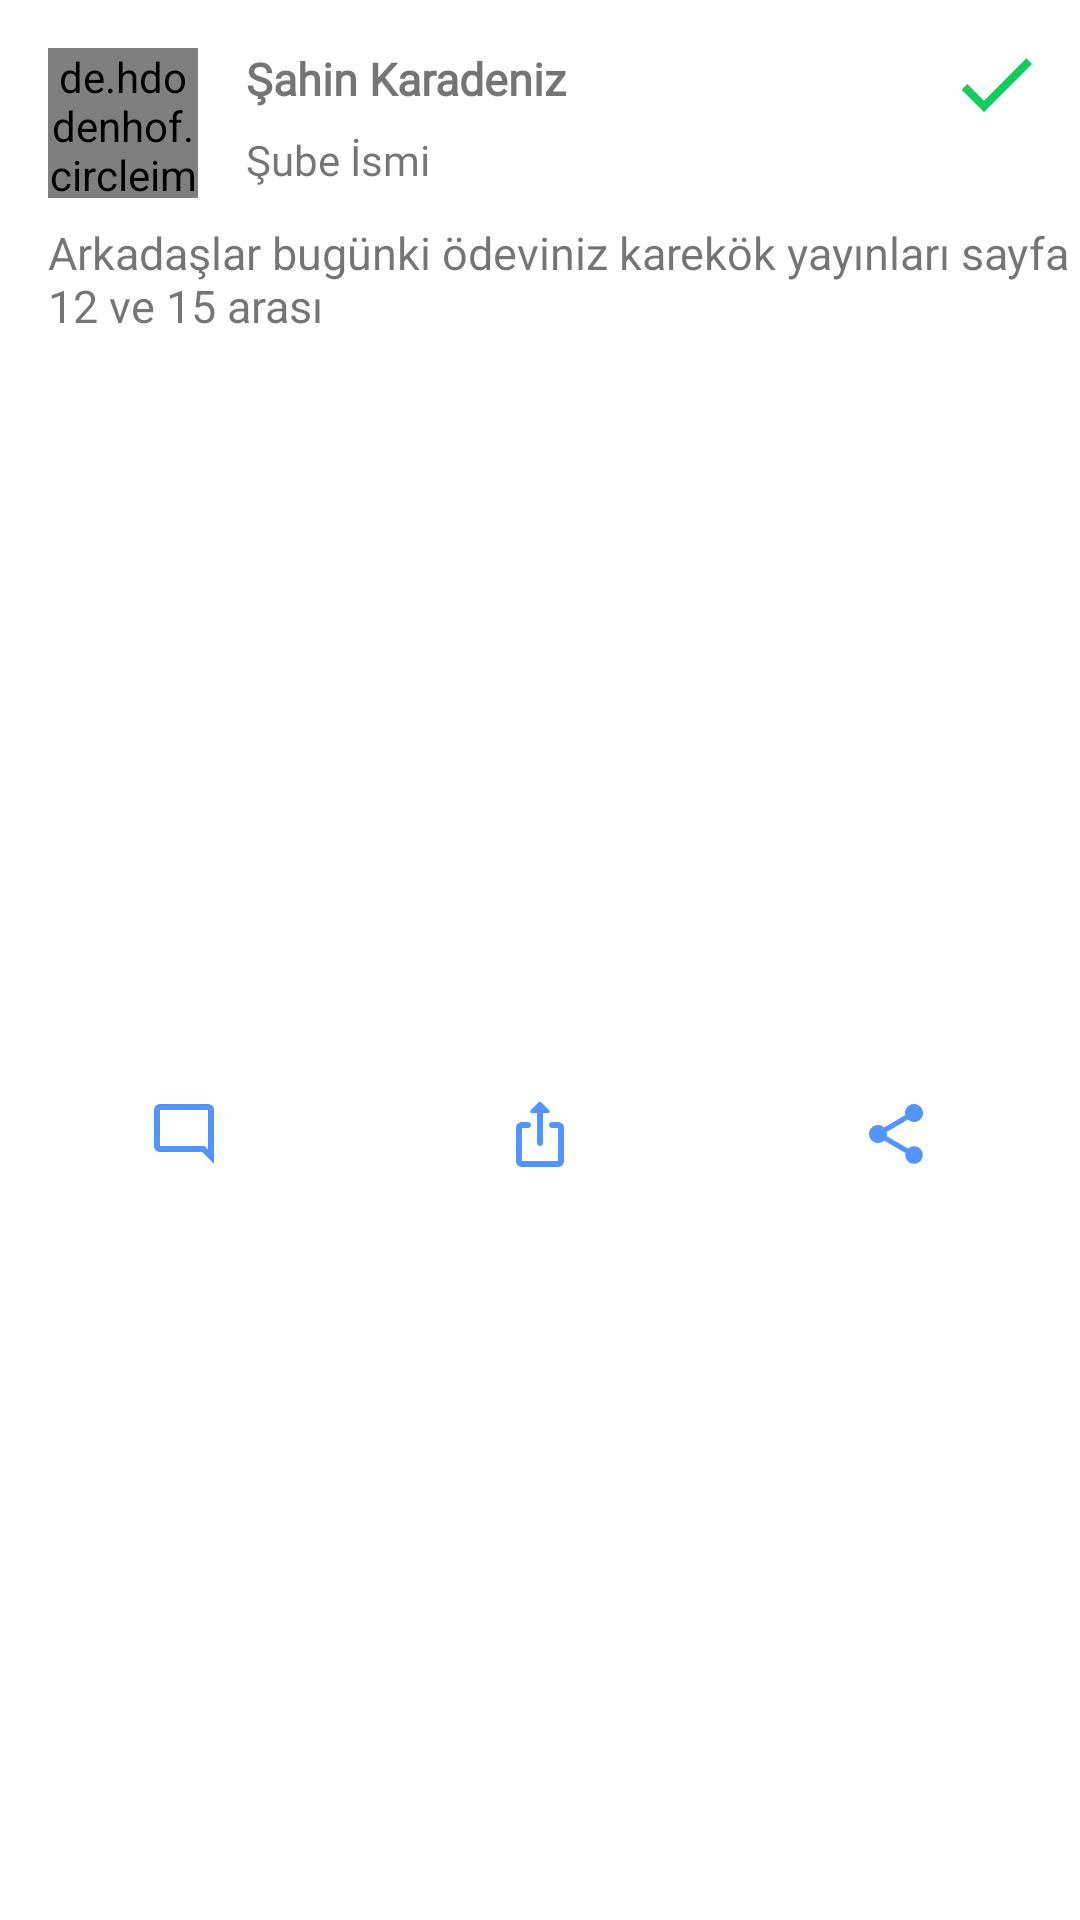

Icons on this 1080px×1920px Android screen, each with its box as {"left": x1, "top": y1, "right": x2, "bottom": y2}:
check: {"left": 961, "top": 58, "right": 1032, "bottom": 112}
mode comment: {"left": 154, "top": 1104, "right": 214, "bottom": 1164}
share: {"left": 516, "top": 1101, "right": 564, "bottom": 1167}, {"left": 869, "top": 1104, "right": 923, "bottom": 1164}
